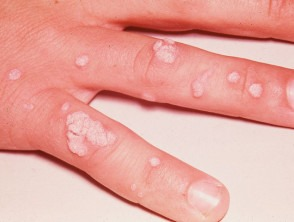Warts: (57, 102, 116, 159), (223, 57, 269, 108), (146, 36, 189, 66), (66, 45, 95, 76), (2, 65, 38, 89), (186, 74, 211, 105)
